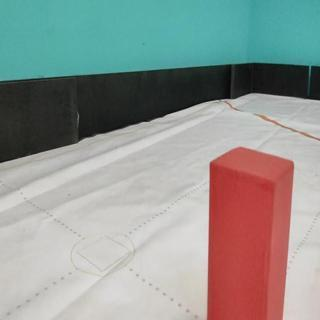redbox: (207, 146, 294, 320)
